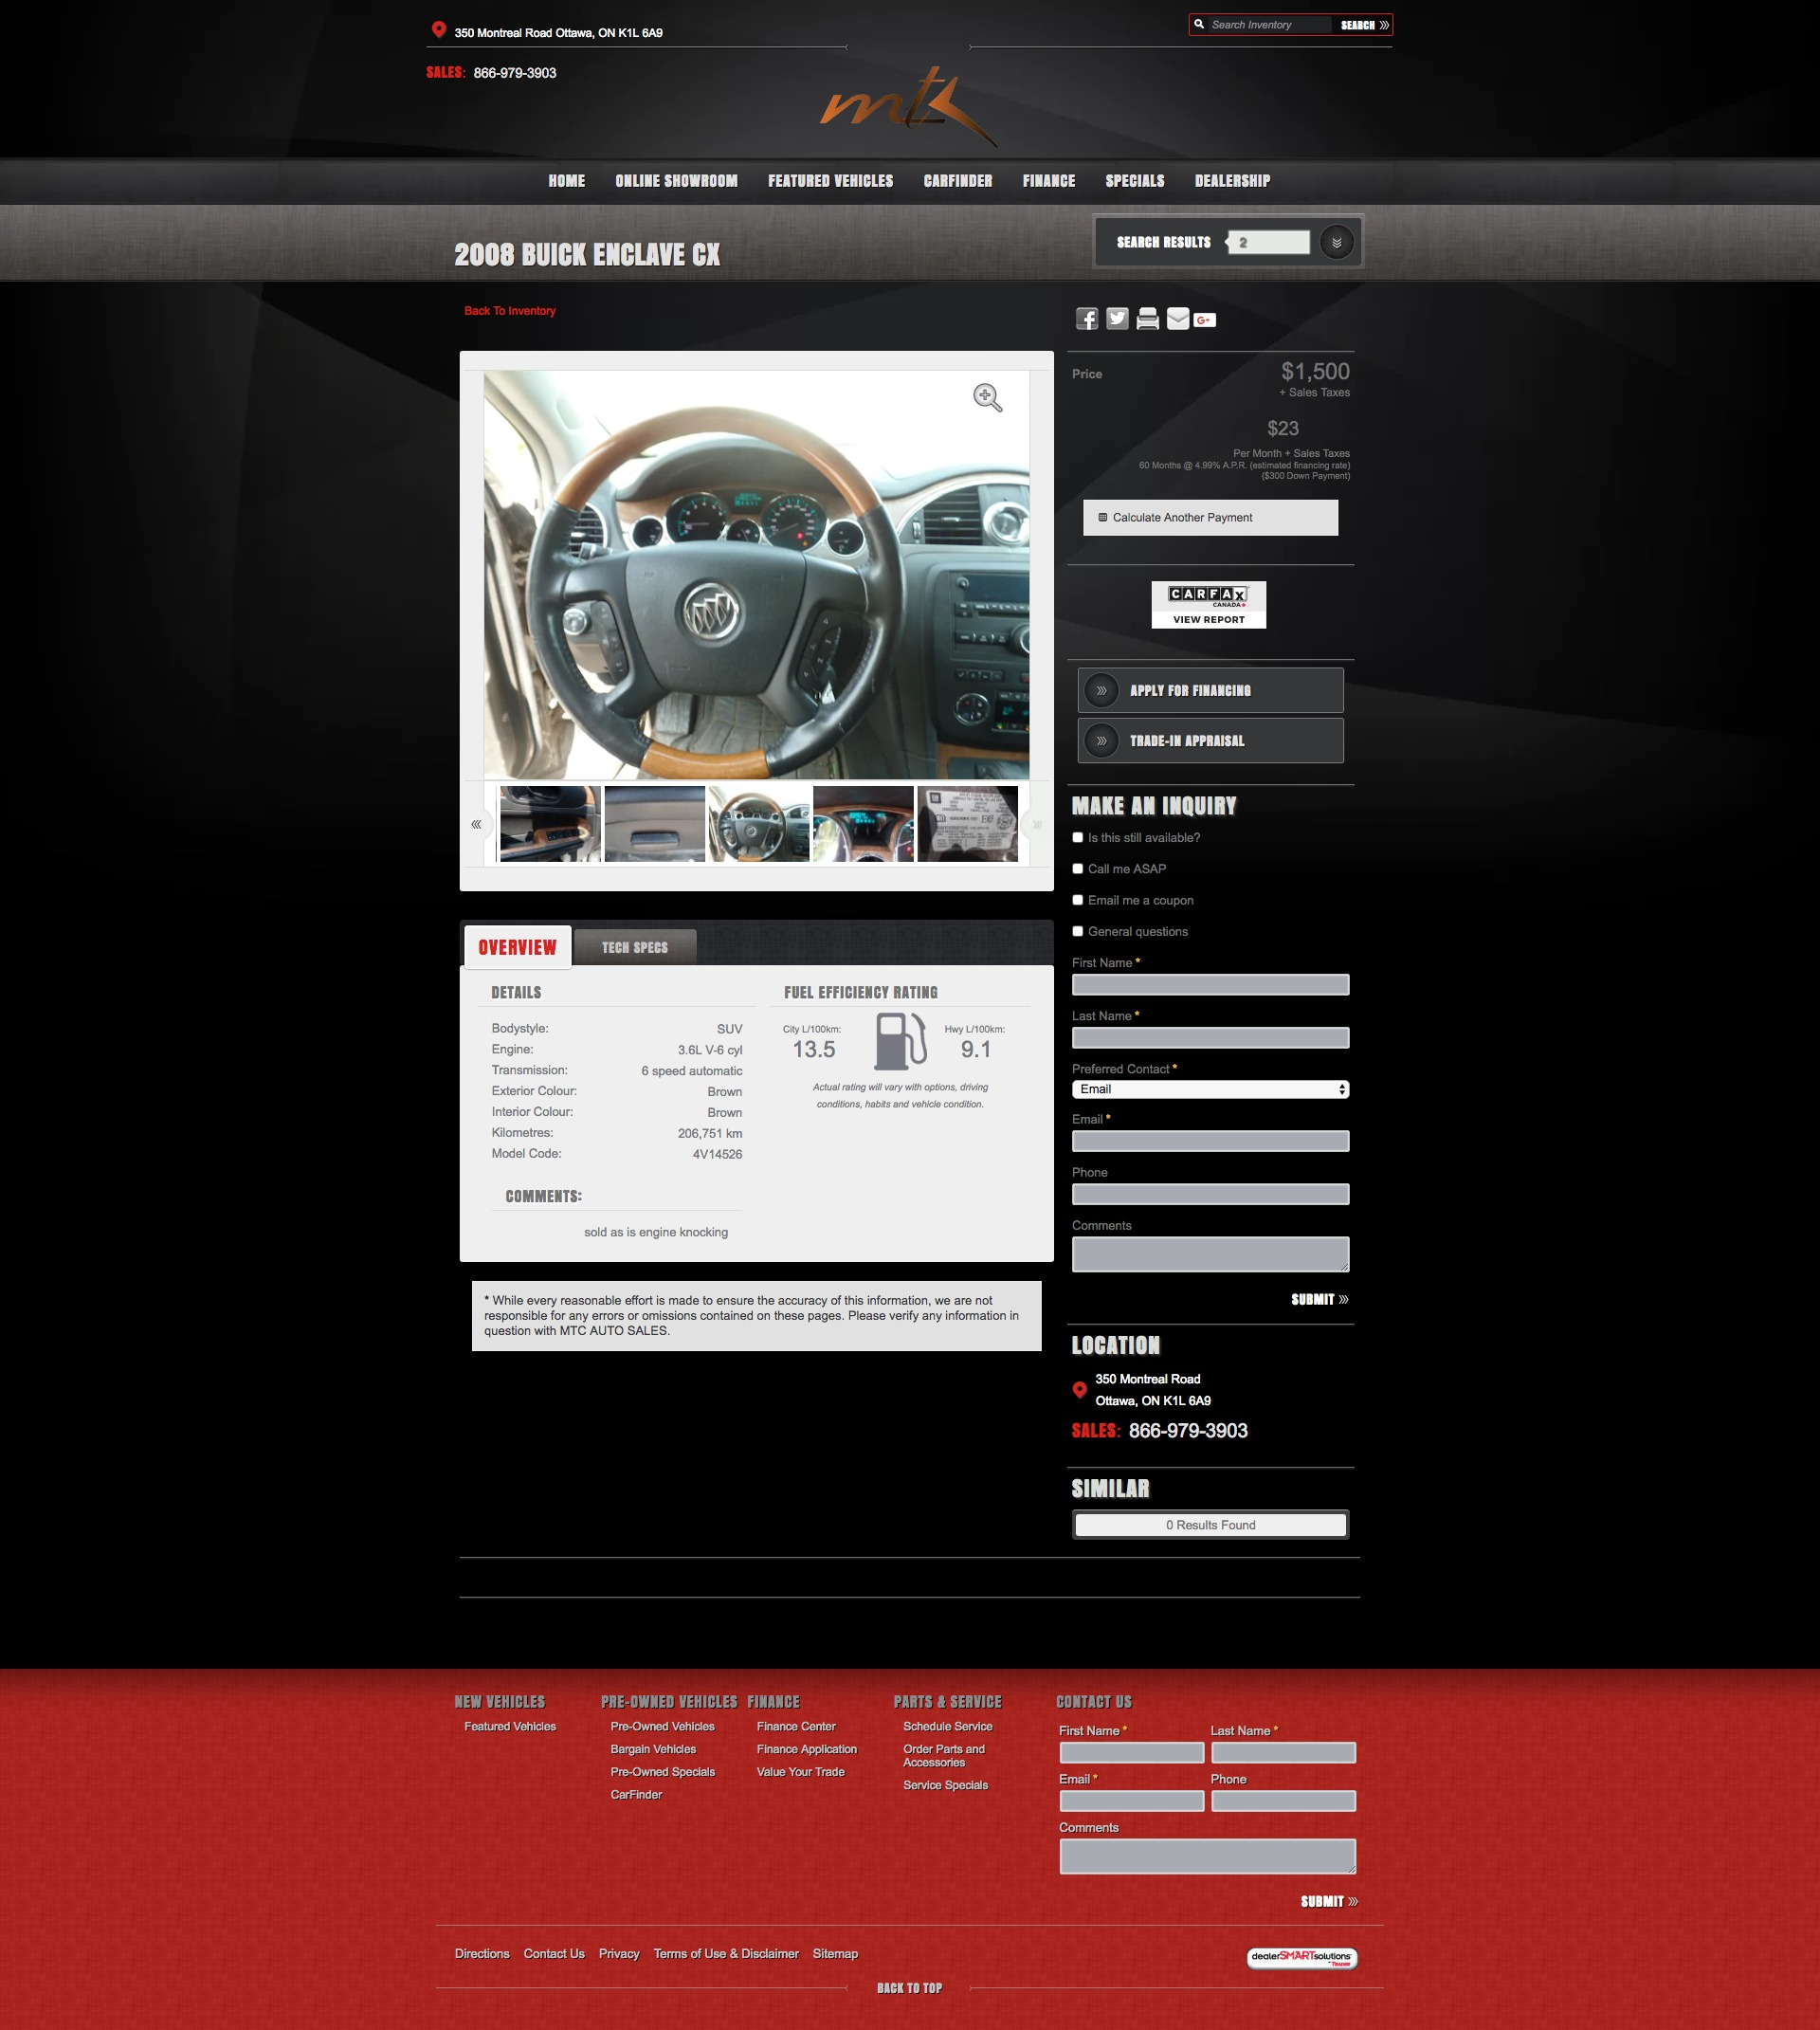car: (1031, 819, 1045, 833)
